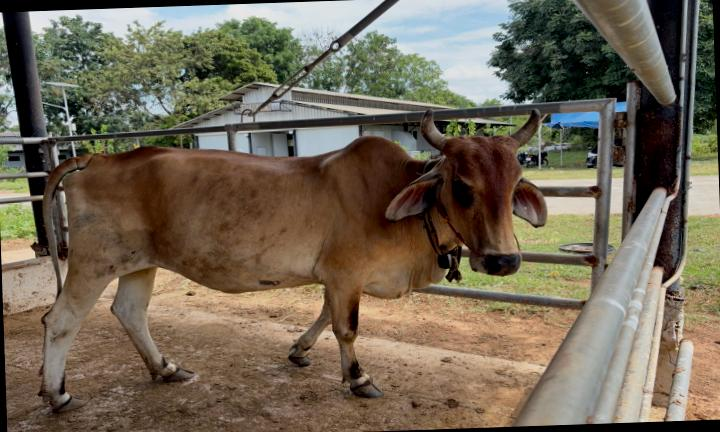Brahman: (40, 110, 547, 411)
